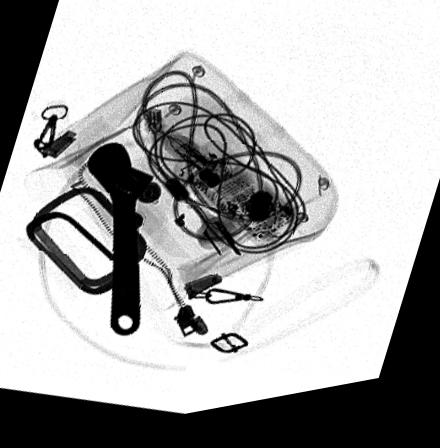Wrench: (85, 143, 154, 342)
